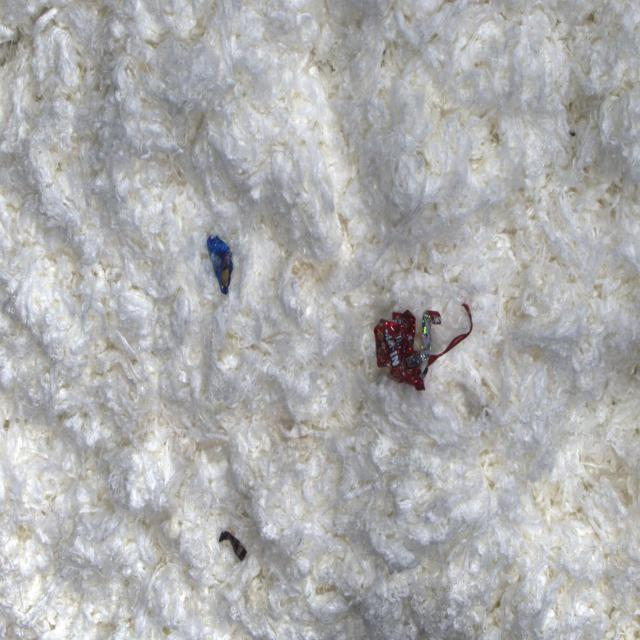dust: (370, 288, 475, 394), (218, 507, 259, 585), (204, 223, 237, 298)
